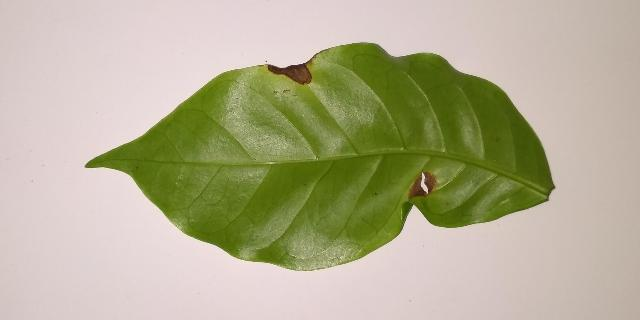rust: (267, 53, 317, 84), (409, 172, 436, 198)
